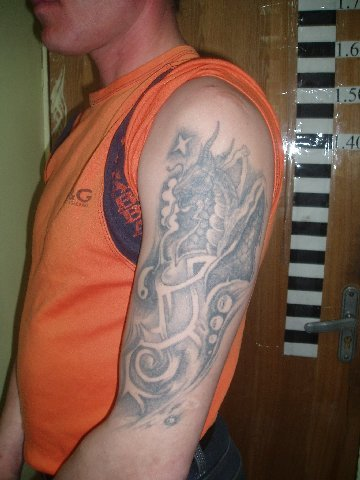tatu6_drakon: (100, 78, 291, 446)
